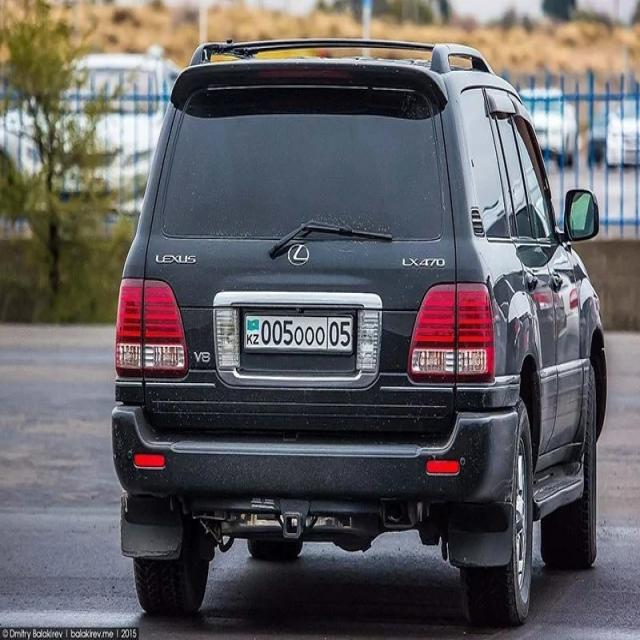car: (110, 36, 608, 626)
license: (243, 311, 354, 355)
